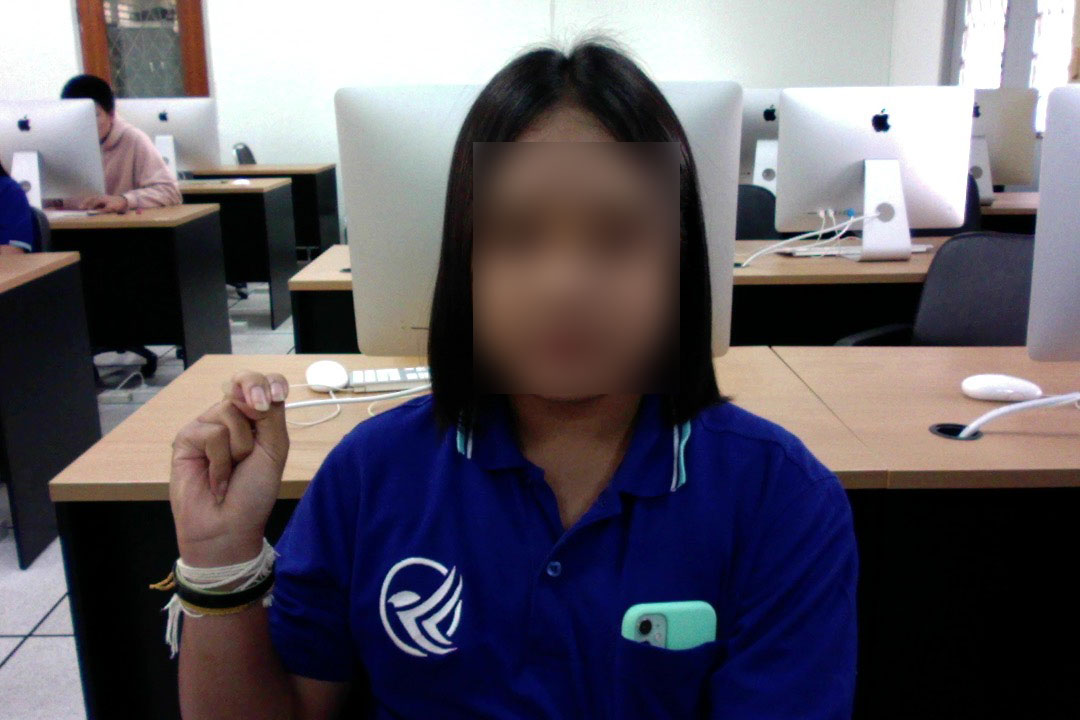nor: (166, 363, 298, 555)
